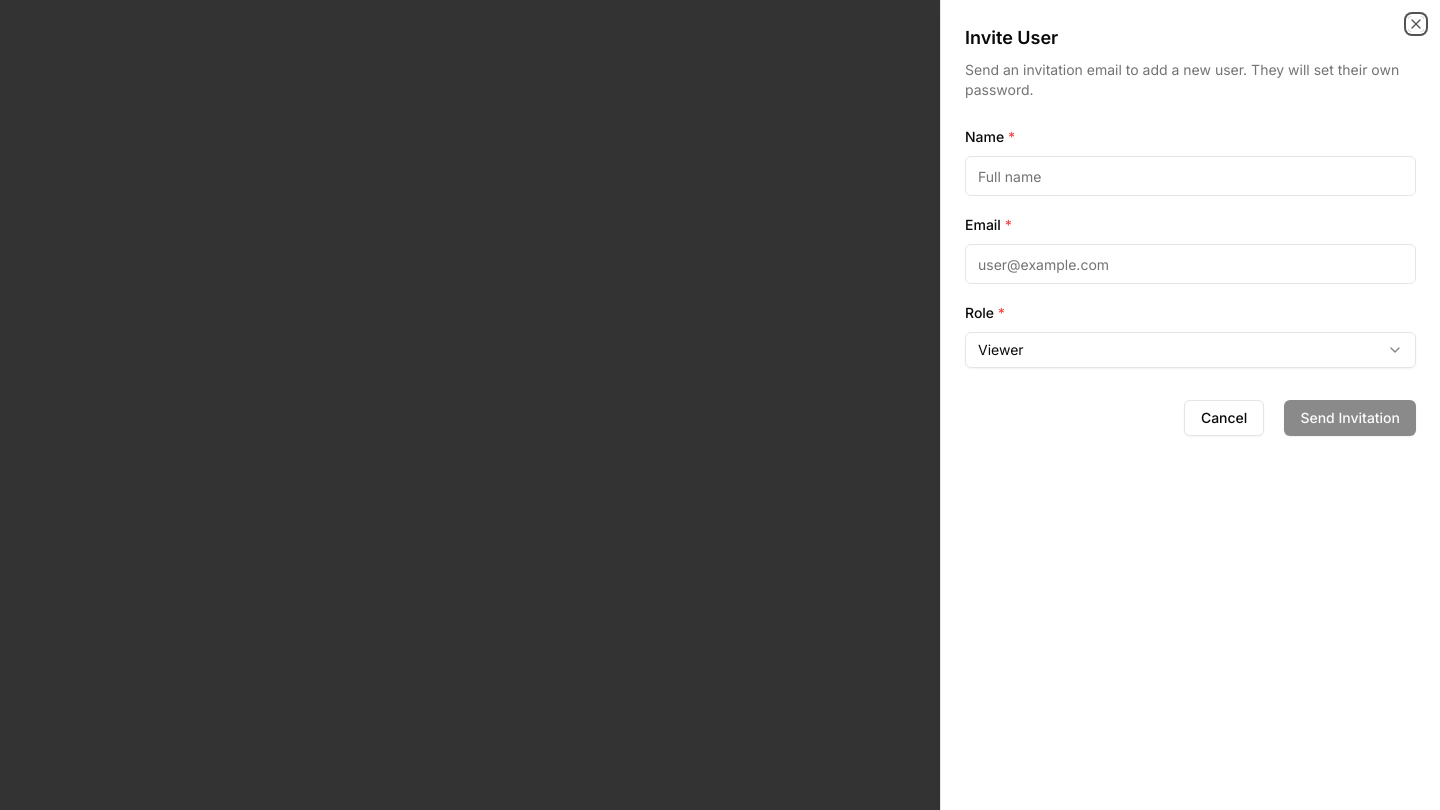
it: AddMemberModal — Invite User (Story 13-1) › should show error for name too short
Type "A" into the field with test id "name-input" at (1190, 176), box [965,156,1416,196]
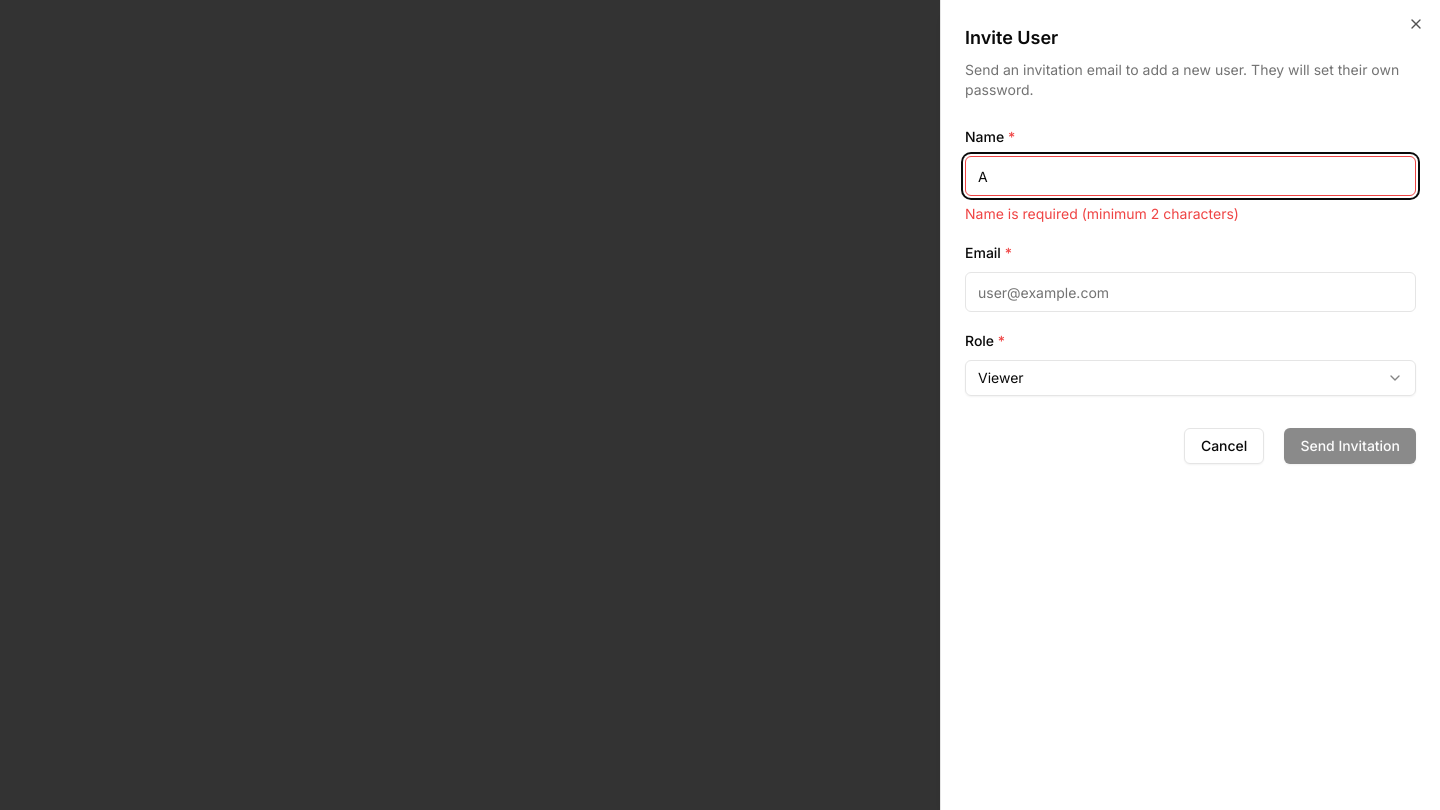
Check: the text with test id "name-error" shows "minimum 2", box [965,205,1239,222]
